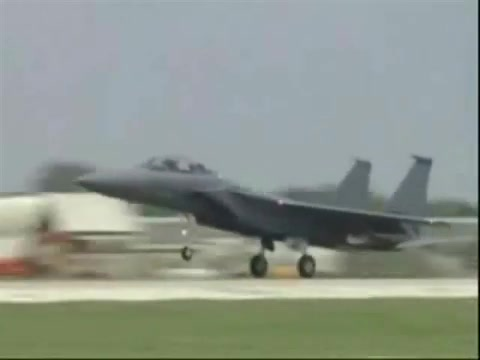aeroplane: (75, 150, 458, 280)
